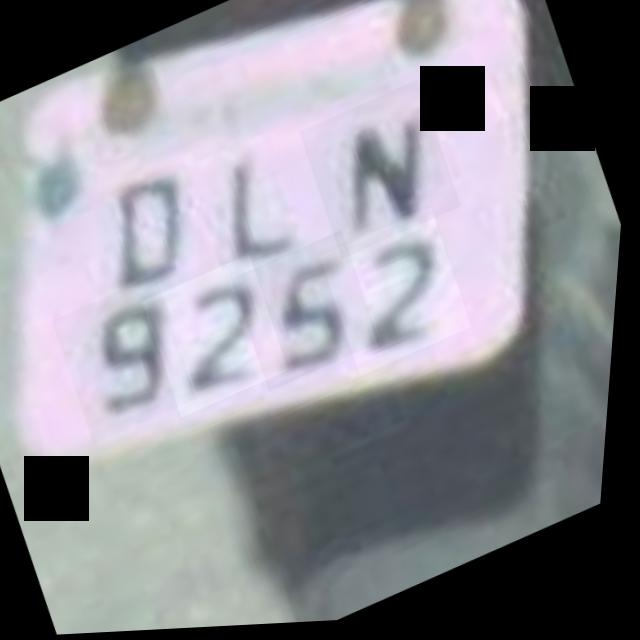2: (317, 209, 484, 382), (140, 255, 301, 422)
5: (229, 231, 392, 396)
9: (49, 274, 210, 446)
N: (293, 81, 472, 265)
O: (71, 147, 228, 312)
